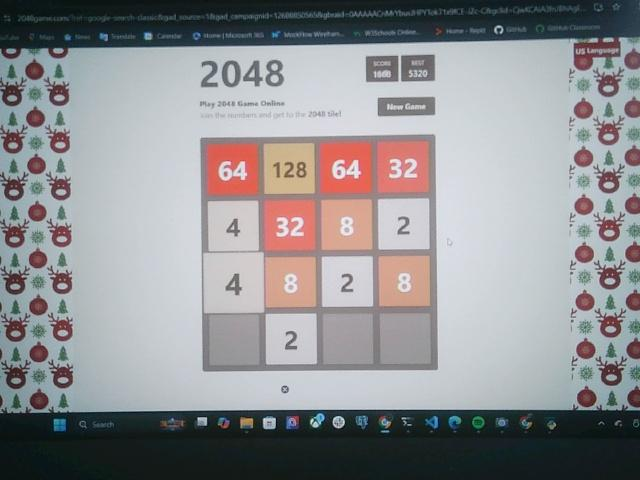board: (201, 137, 438, 371)
tile: (203, 252, 265, 313), (378, 256, 431, 309), (263, 143, 316, 195), (378, 199, 431, 251), (321, 143, 373, 194), (265, 257, 317, 308), (379, 143, 430, 194), (323, 256, 374, 307), (208, 200, 260, 250), (264, 200, 316, 250), (266, 314, 318, 364), (208, 144, 259, 194), (322, 201, 372, 251)
